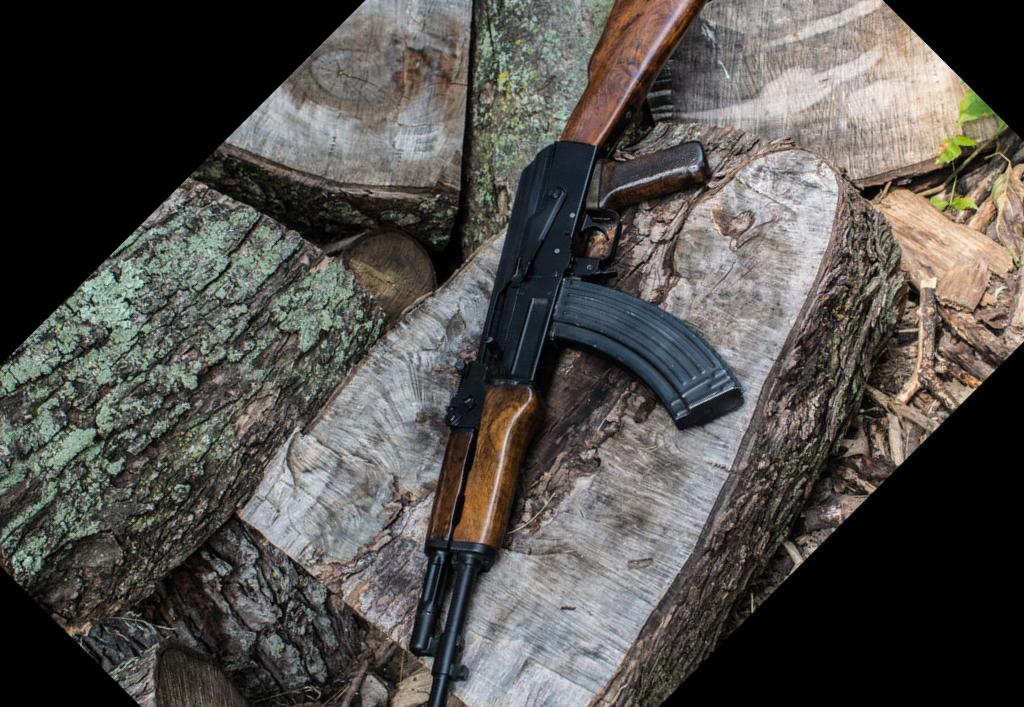larga: (405, 0, 743, 707)
